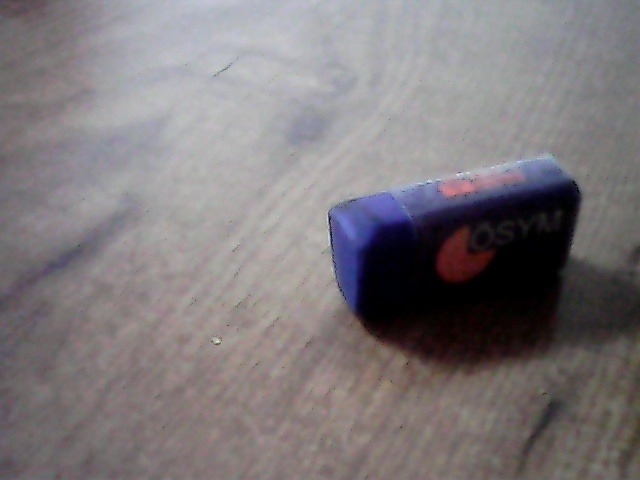bad: (330, 156, 581, 318)
